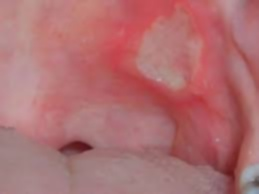Ulcer: (132, 7, 204, 94)
